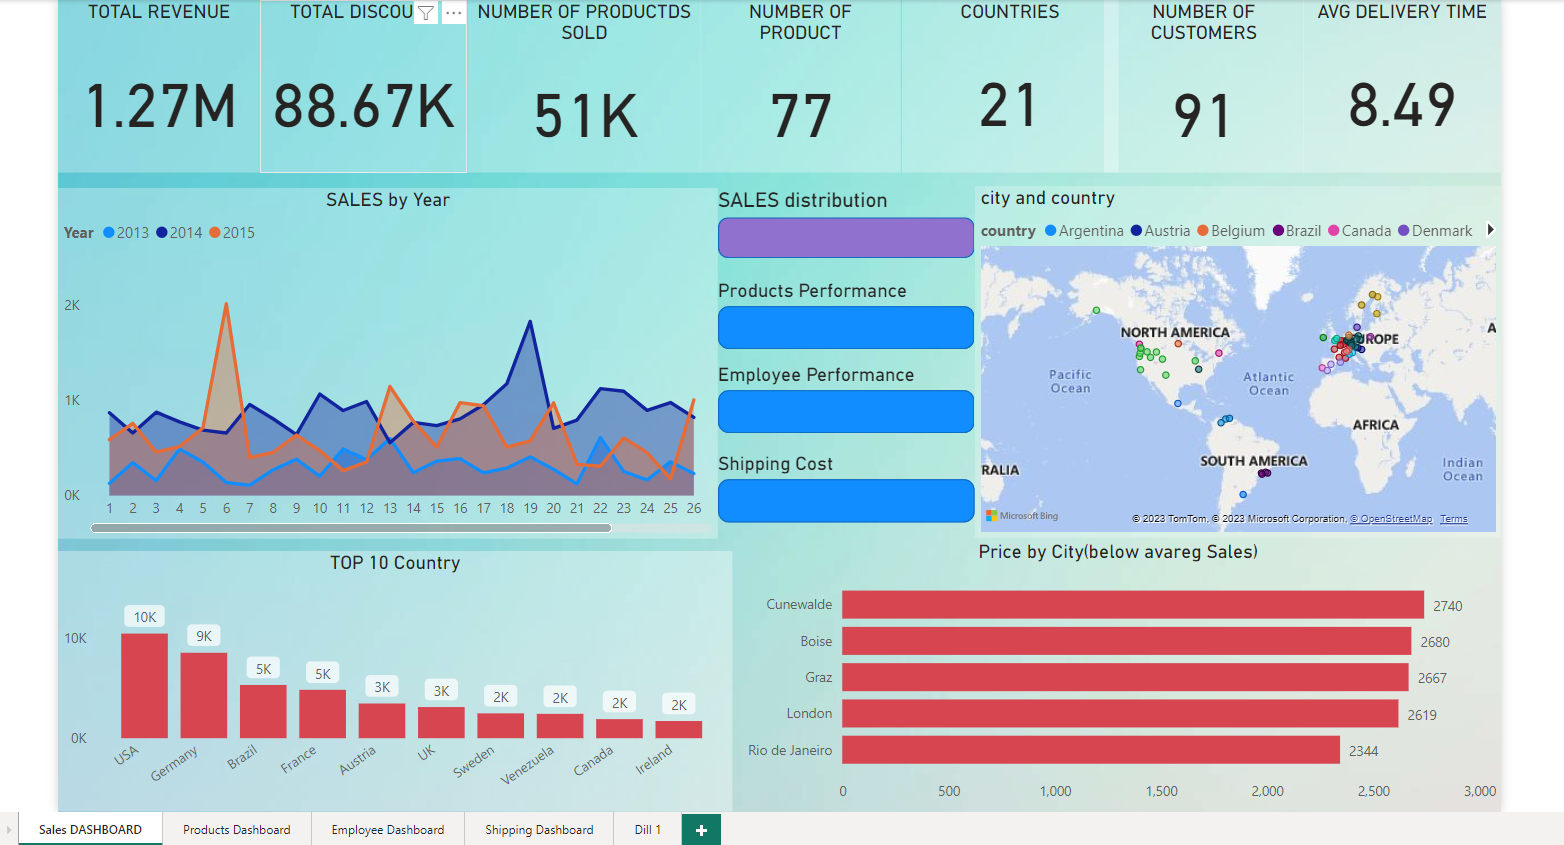

Layout of this report page (visuals, bound fields, positions):
{"tool":"powerbi","page":{"name":"Sales DASHBOARD","canvas":[1280,720],"ordinal":0},"visuals":[{"type":"areaChart","title":"SALES by Year","fields":{"Category":["orders.orderDate.Variation.Date Hierarchy.Year","orders.orderDate.Variation.Date Hierarchy.Quarter","orders.orderDate.Variation.Date Hierarchy.Month","orders.orderDate.Variation.Date Hierarchy.Day"],"Y":["Sum(order_details.unitPrice)"],"Series":["orders.orderDate.Variation.Date Hierarchy.Year"]},"box":[0,166.8,585.4,310.9],"z":0},{"type":"lineStackedColumnComboChart","title":"TOP 10 Country","fields":{"Category":["customers.country"],"Y":["Sum(order_details.unitPrice)"]},"box":[0,489,598,231],"z":1000},{"type":"barChart","title":"Price by City(below avareg Sales)","fields":{"Category":["customers.city"],"Y":["Sum(order_details.unitPrice)"]},"box":[599.1,479.2,680.9,241.1],"z":2000},{"type":"card","title":"TOTAL REVENUE","fields":{"Values":["Sum(order_details.toal)"]},"box":[0,0,179.2,153.4],"z":3000},{"type":"card","title":"TOTAL DISCOUNT ","fields":{"Values":["Sum(order_details.total_discount)"]},"box":[179.2,0,183.7,153.4],"z":4000},{"type":"card","title":"NUMBER OF PRODUCTDS SOLD","fields":{"Values":["Sum(order_details.quantity)"]},"box":[363.3,0,206.3,153],"z":5000},{"type":"card","title":"NUMBER OF PRODUCT","fields":{"Values":["CountNonNull(products.productID)"]},"box":[569.6,0,178.3,153],"z":6000},{"type":"card","title":"COUNTRIES","fields":{"Values":["Count(customers.country)"]},"box":[747.9,0,191.6,153],"z":7000},{"type":"card","title":"NUMBER OF CUSTOMERS ","fields":{"Values":["Count(customers.customerID)"]},"box":[927.6,0,177,153],"z":8000},{"type":"card","title":"AVG DELIVERY TIME ","fields":{"Values":["Avg(orders.lead time in day)"]},"box":[1104.1,0,175.9,153.2],"z":9000},{"type":"map","fields":{"Series":["customers.country"],"Category":["customers.city"]},"box":[812.9,165.3,467.1,312.4],"z":10000},{"type":"shape","title":"SALES distribution","box":[585.4,166.8,227.5,62.2],"z":11000},{"type":"shape","title":"Products Performance","box":[585.4,247.2,227.5,62.2],"z":12000},{"type":"shape","title":"Employee Performance","box":[585.4,321.5,227.5,62.2],"z":13000},{"type":"shape","title":"Shipping Cost","box":[585.6,400.6,227.6,62.6],"z":14000}]}

Visuals, with their boxes on the page's 1280x720 design canvas (x1, y1, x2, y2). These are canvas units, not pixel positions in the 1564x845 screenshot, which may show the page scaled, cropped or inside an application window:
"SALES by Year" areaChart: x1=0, y1=167, x2=585, y2=478
"TOP 10 Country" lineStackedColumnComboChart: x1=0, y1=489, x2=598, y2=720
"Price by City(below avareg Sales)" barChart: x1=599, y1=479, x2=1280, y2=720
"TOTAL REVENUE" card: x1=0, y1=0, x2=179, y2=153
"TOTAL DISCOUNT " card: x1=179, y1=0, x2=363, y2=153
"NUMBER OF PRODUCTDS SOLD" card: x1=363, y1=0, x2=570, y2=153
"NUMBER OF PRODUCT" card: x1=570, y1=0, x2=748, y2=153
"COUNTRIES" card: x1=748, y1=0, x2=940, y2=153
"NUMBER OF CUSTOMERS " card: x1=928, y1=0, x2=1105, y2=153
"AVG DELIVERY TIME " card: x1=1104, y1=0, x2=1280, y2=153
map - customers.country x customers.city: x1=813, y1=165, x2=1280, y2=478
"SALES distribution" shape: x1=585, y1=167, x2=813, y2=229
"Products Performance" shape: x1=585, y1=247, x2=813, y2=309
"Employee Performance" shape: x1=585, y1=322, x2=813, y2=384
"Shipping Cost" shape: x1=586, y1=401, x2=813, y2=463
